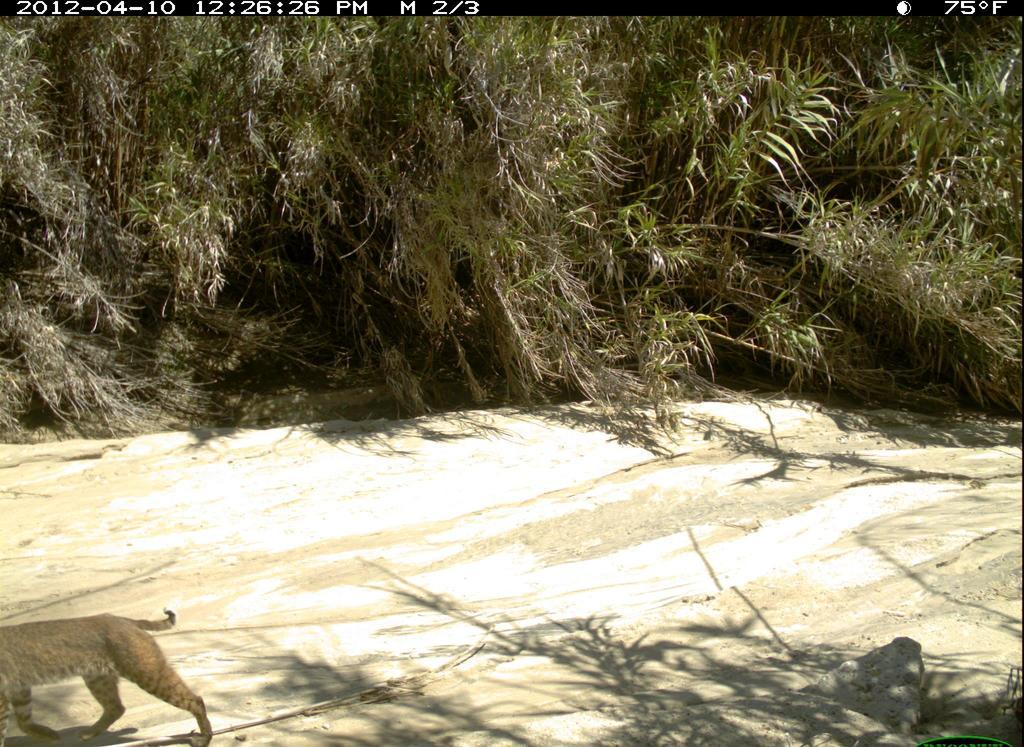bobcat: (1, 597, 213, 745)
